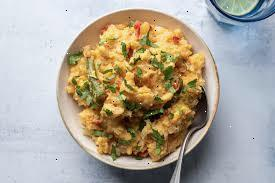upma: (69, 20, 188, 153)
